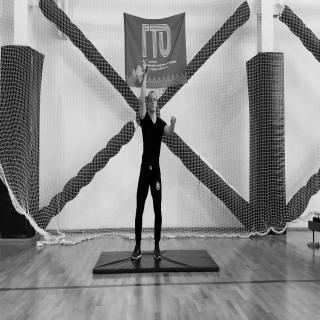kettlebell: (133, 65, 150, 89)
